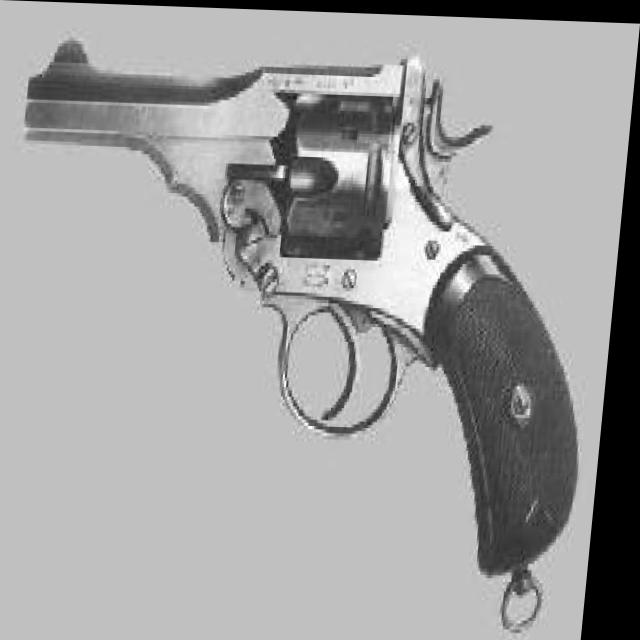handgun: (0, 30, 620, 567)
